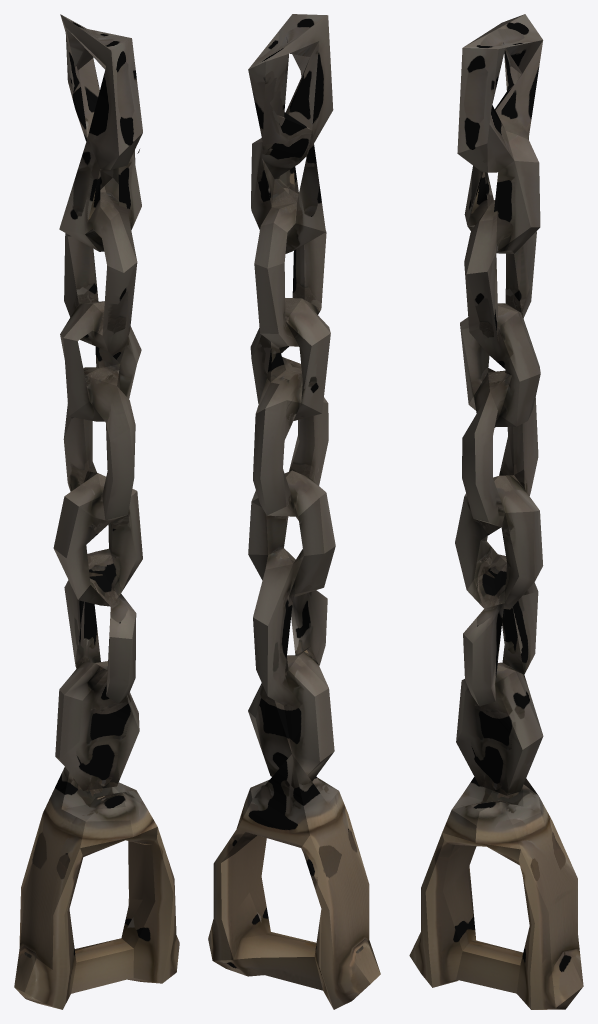
File: Chain_1120160445_texture.fbx
The picture shows the model from 3 angles, left to right: view 1: azimuth 30°, elevation 25°; view 2: azimuth 150°, elevation 25°; view 3: azimuth 330°, elevation 25°; orthographic projection.
Visible parts, largest first — view 1: Mesh0; view 2: Mesh0; view 3: Mesh0.
Part boxes in pixels (box(x1,y1,x2,y2)): Mesh0: box(14, 14, 179, 1009); Mesh0: box(208, 14, 380, 1009); Mesh0: box(409, 14, 583, 1009).
Size of the model in its own units: 33.16 by 186 by 22.1.
1 material, 1 textured.
